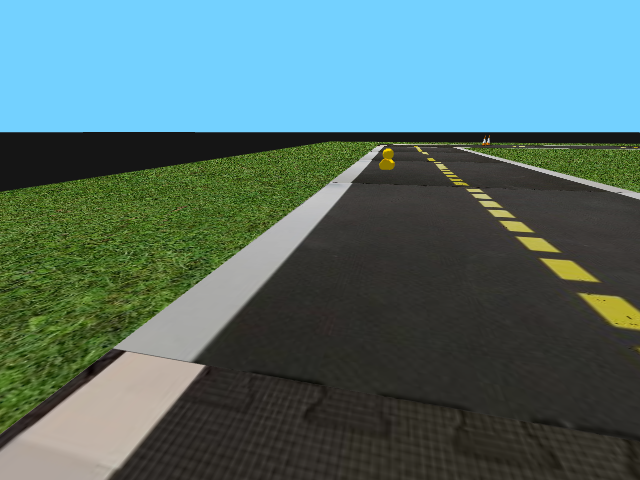Duckie: (378, 148, 397, 171)
